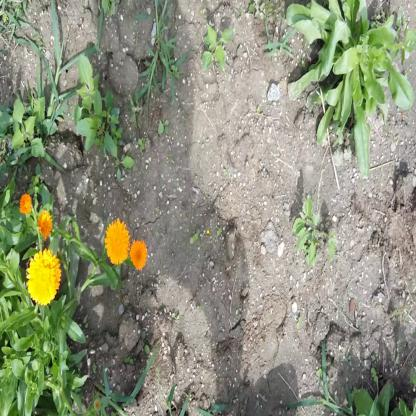marigold: (27, 251, 58, 305), (104, 220, 128, 264), (128, 240, 146, 270)
